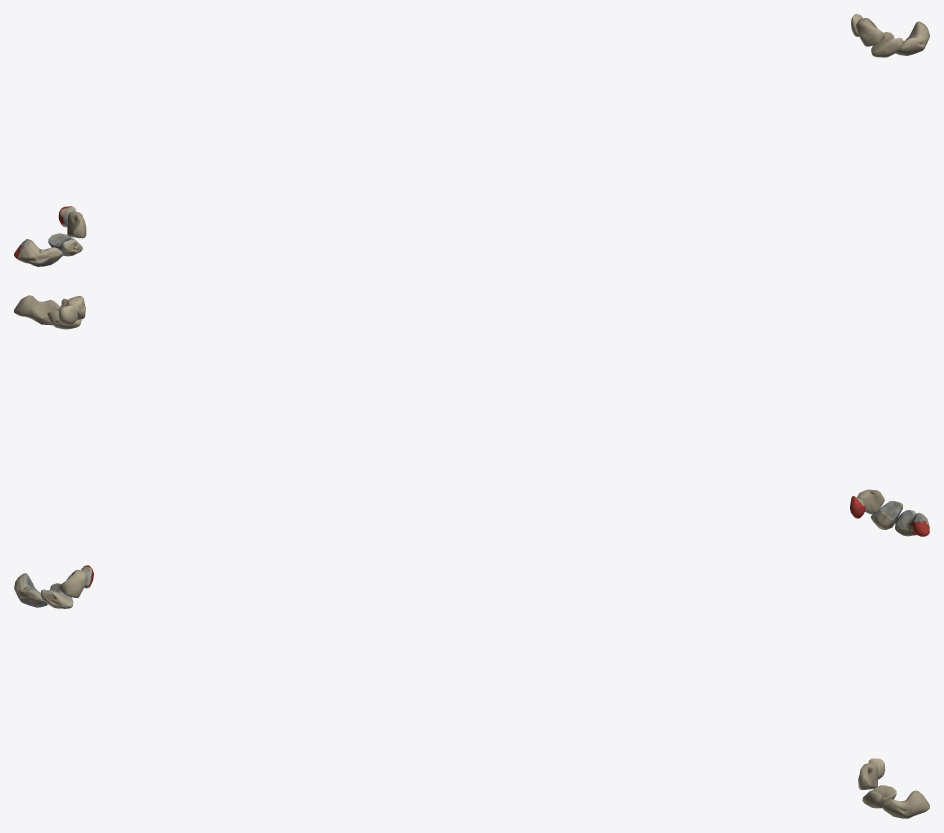
Rendered from ossa-carpi-proximalia.glb.
3 renders of one model, top to bottom at view 1: azimuth 30°, elevation 25°; view 2: azimuth 150°, elevation 25°; view 3: azimuth 330°, elevation 25°, orthographic.
Parts seen in each view (by area): view 1: FJ3383, FJ3278, FJ3285, FJ3268; view 2: FJ3278, FJ3383; view 3: FJ3278, FJ3383, FJ3390.
Boxes of the visible parts, bbox=[...] form: FJ3383: bbox=[17, 239, 63, 266]; FJ3278: bbox=[896, 21, 929, 55]; FJ3285: bbox=[856, 18, 884, 46]; FJ3268: bbox=[871, 32, 903, 57]; FJ3278: bbox=[14, 295, 59, 325]; FJ3383: bbox=[895, 510, 929, 536]; FJ3278: bbox=[881, 790, 929, 818]; FJ3383: bbox=[14, 573, 47, 607]; FJ3390: bbox=[59, 569, 88, 597].
Bounding box in the file's own units: 546 × 23.02 × 27.26.
